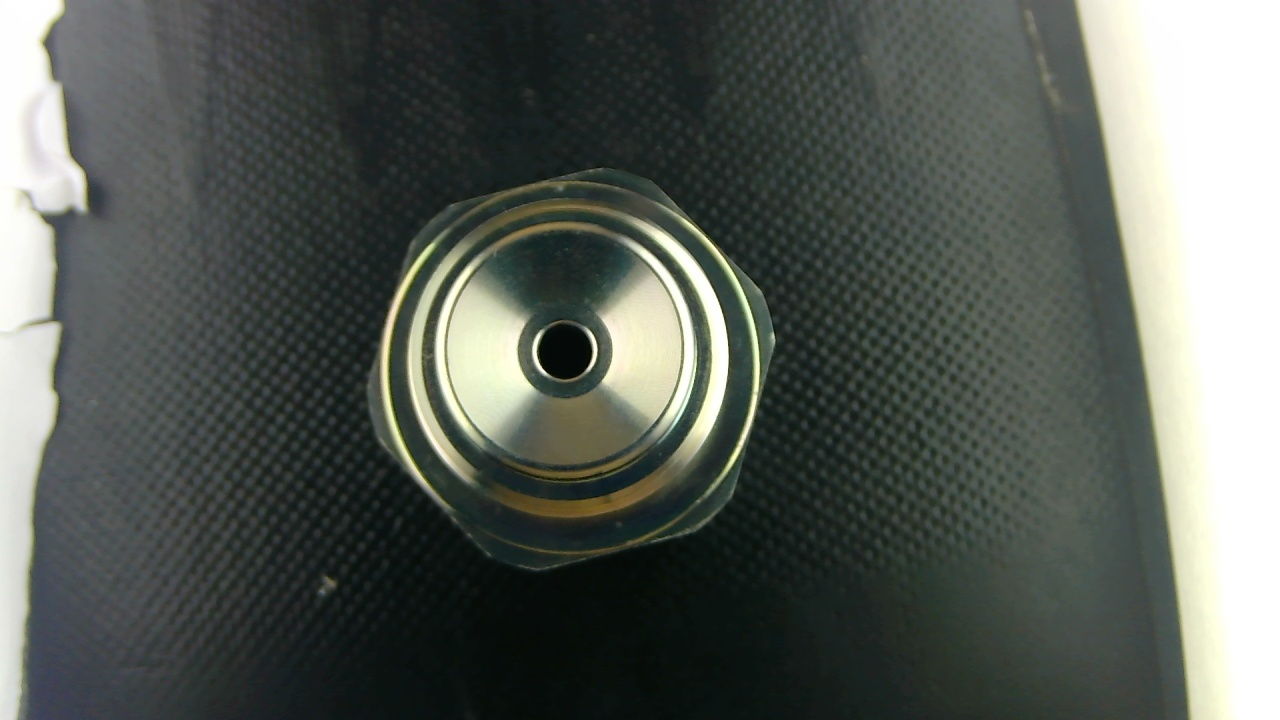Capnut_Okay: (370, 169, 774, 569)
